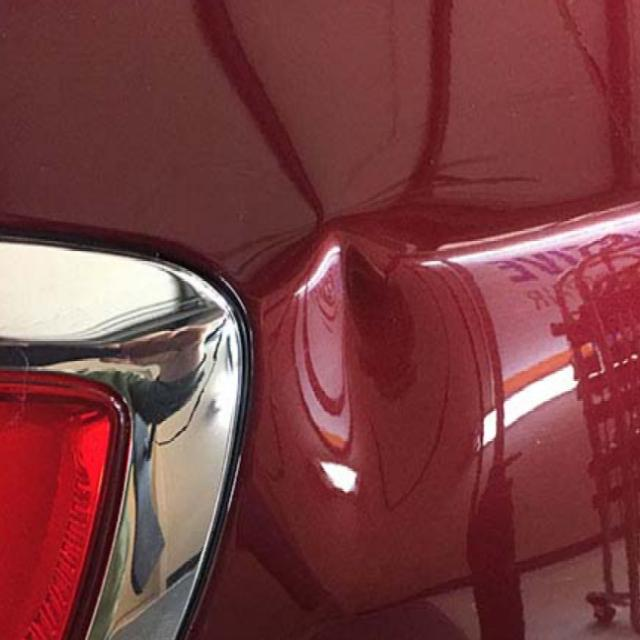dents: (244, 210, 508, 605)
